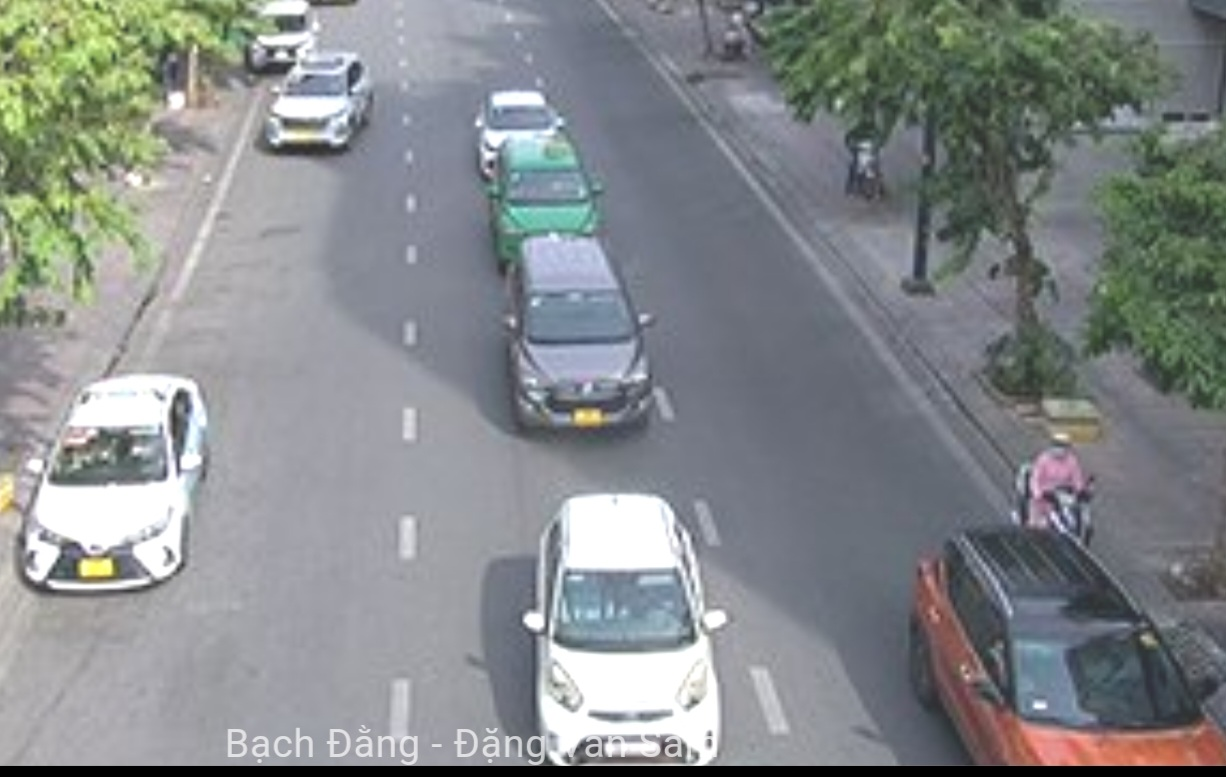car: (915, 527, 1222, 777), (530, 487, 722, 766), (17, 367, 218, 606), (510, 245, 655, 440), (492, 139, 598, 242), (265, 62, 376, 151), (473, 90, 569, 143), (240, 4, 320, 66)
